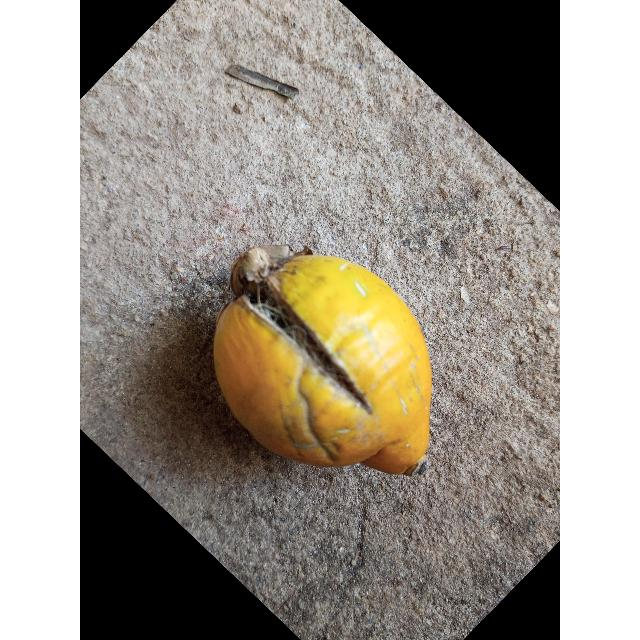damaged: (213, 245, 431, 476)
